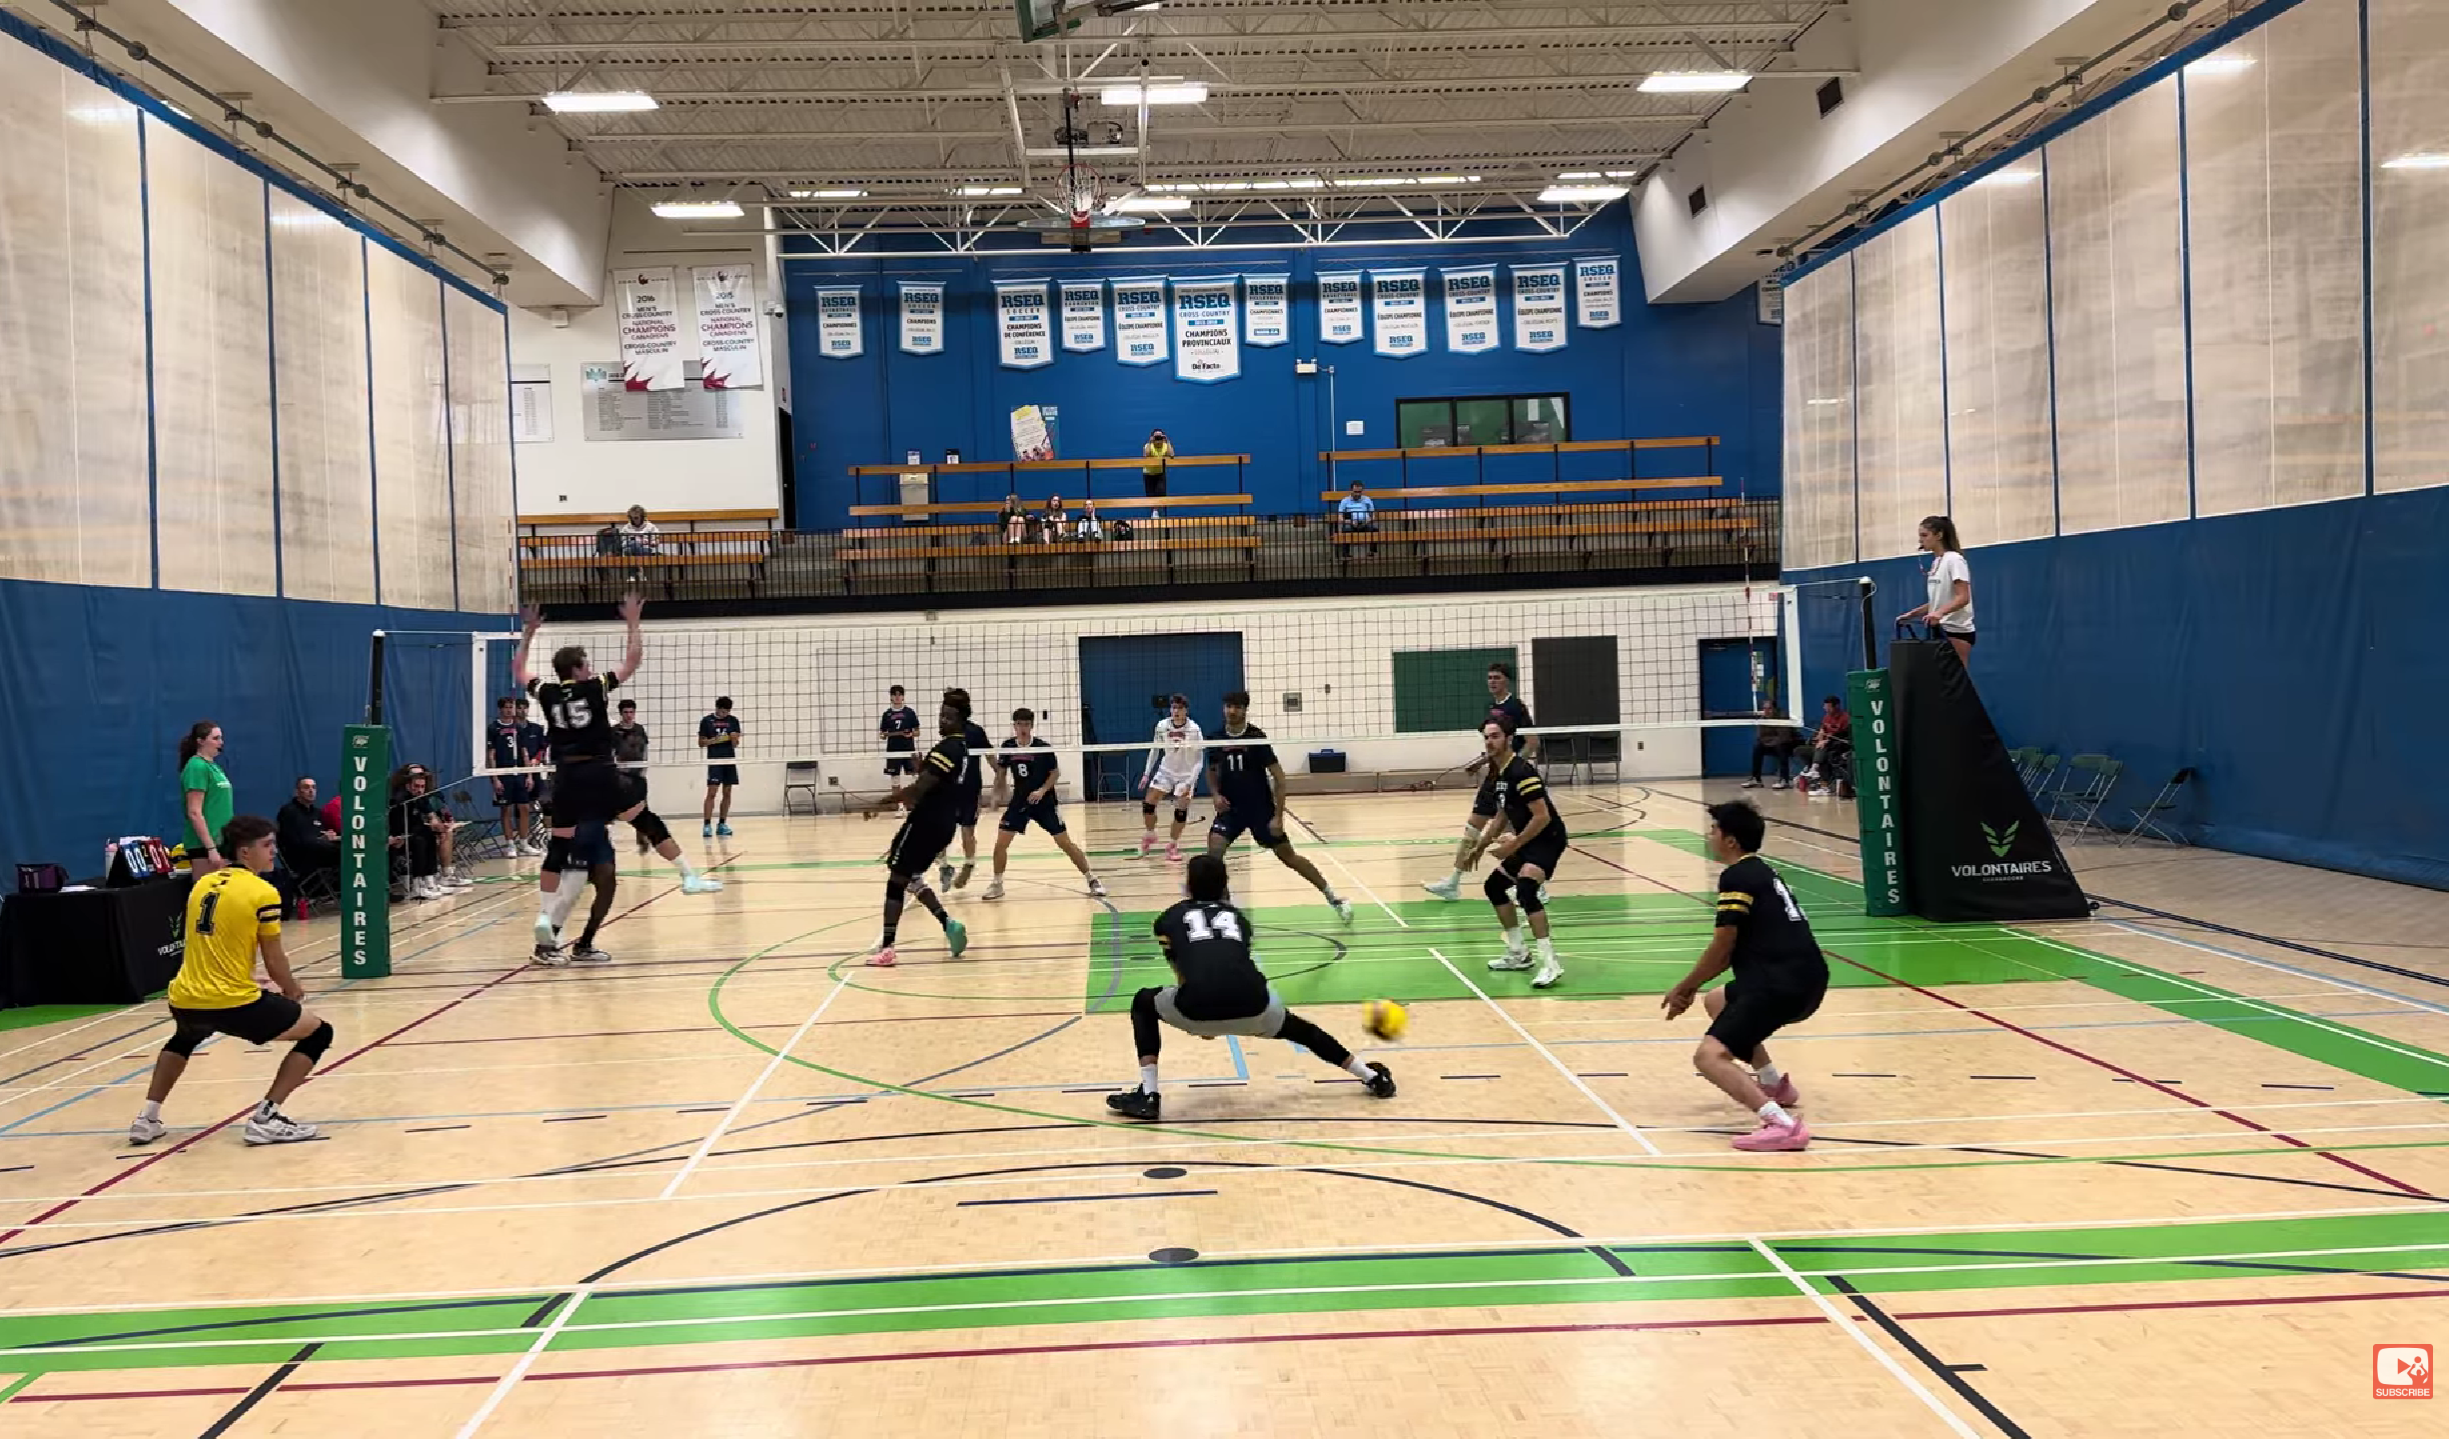Ball: (1360, 995, 1409, 1045)
